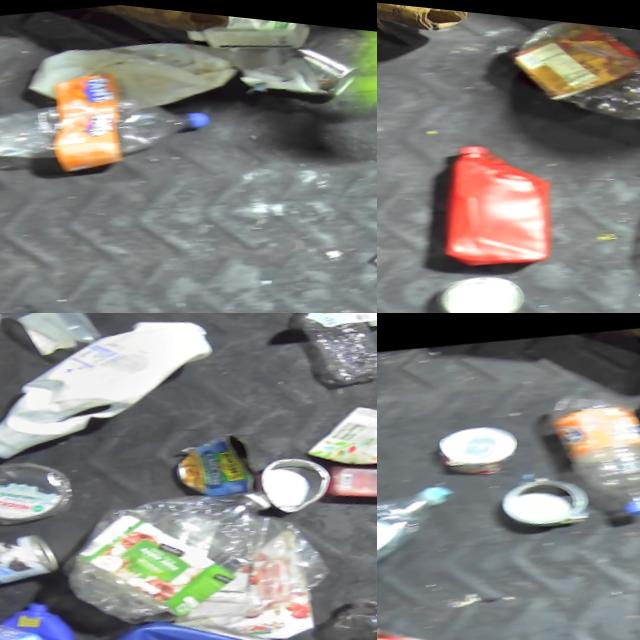can: (164, 417, 260, 502), (251, 438, 340, 515), (496, 465, 592, 534), (433, 414, 523, 485), (0, 520, 64, 603), (377, 616, 447, 640)
non_white_jug: (426, 119, 566, 270), (79, 580, 321, 640)
plastic_bottle: (49, 464, 291, 640), (0, 64, 221, 193), (550, 386, 640, 523), (377, 474, 469, 594), (283, 313, 377, 390), (0, 594, 92, 640)
